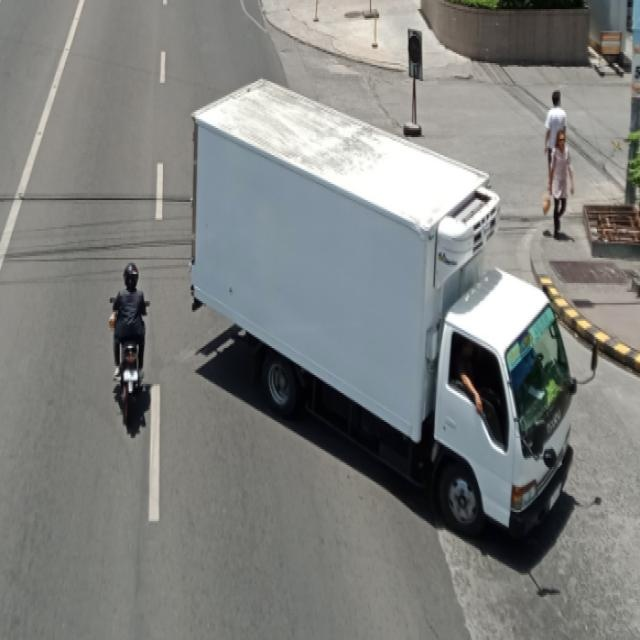Motorcycle: (108, 264, 148, 436)
Truck: (189, 79, 576, 541)
